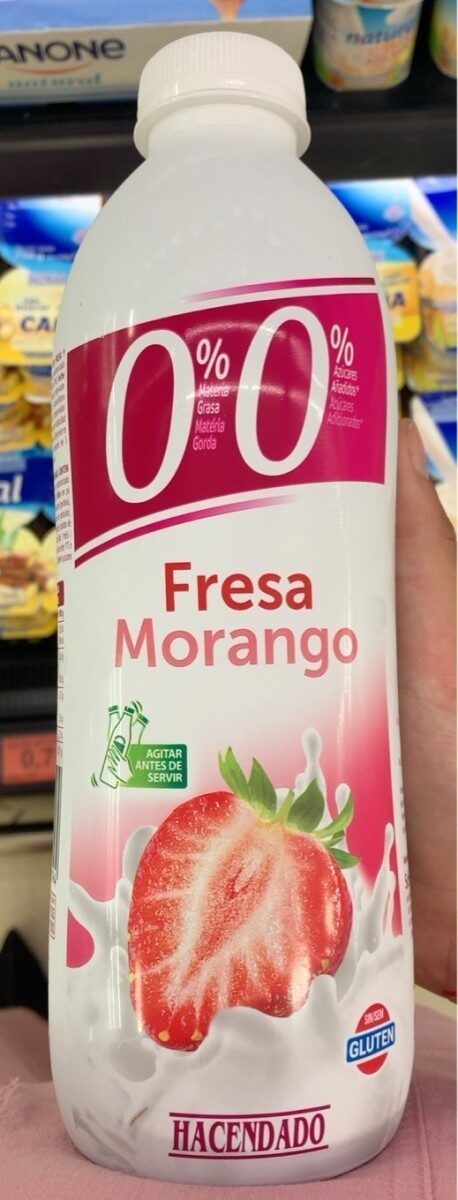Yogur bebible fresa 0%: (23, 60, 435, 1140)
